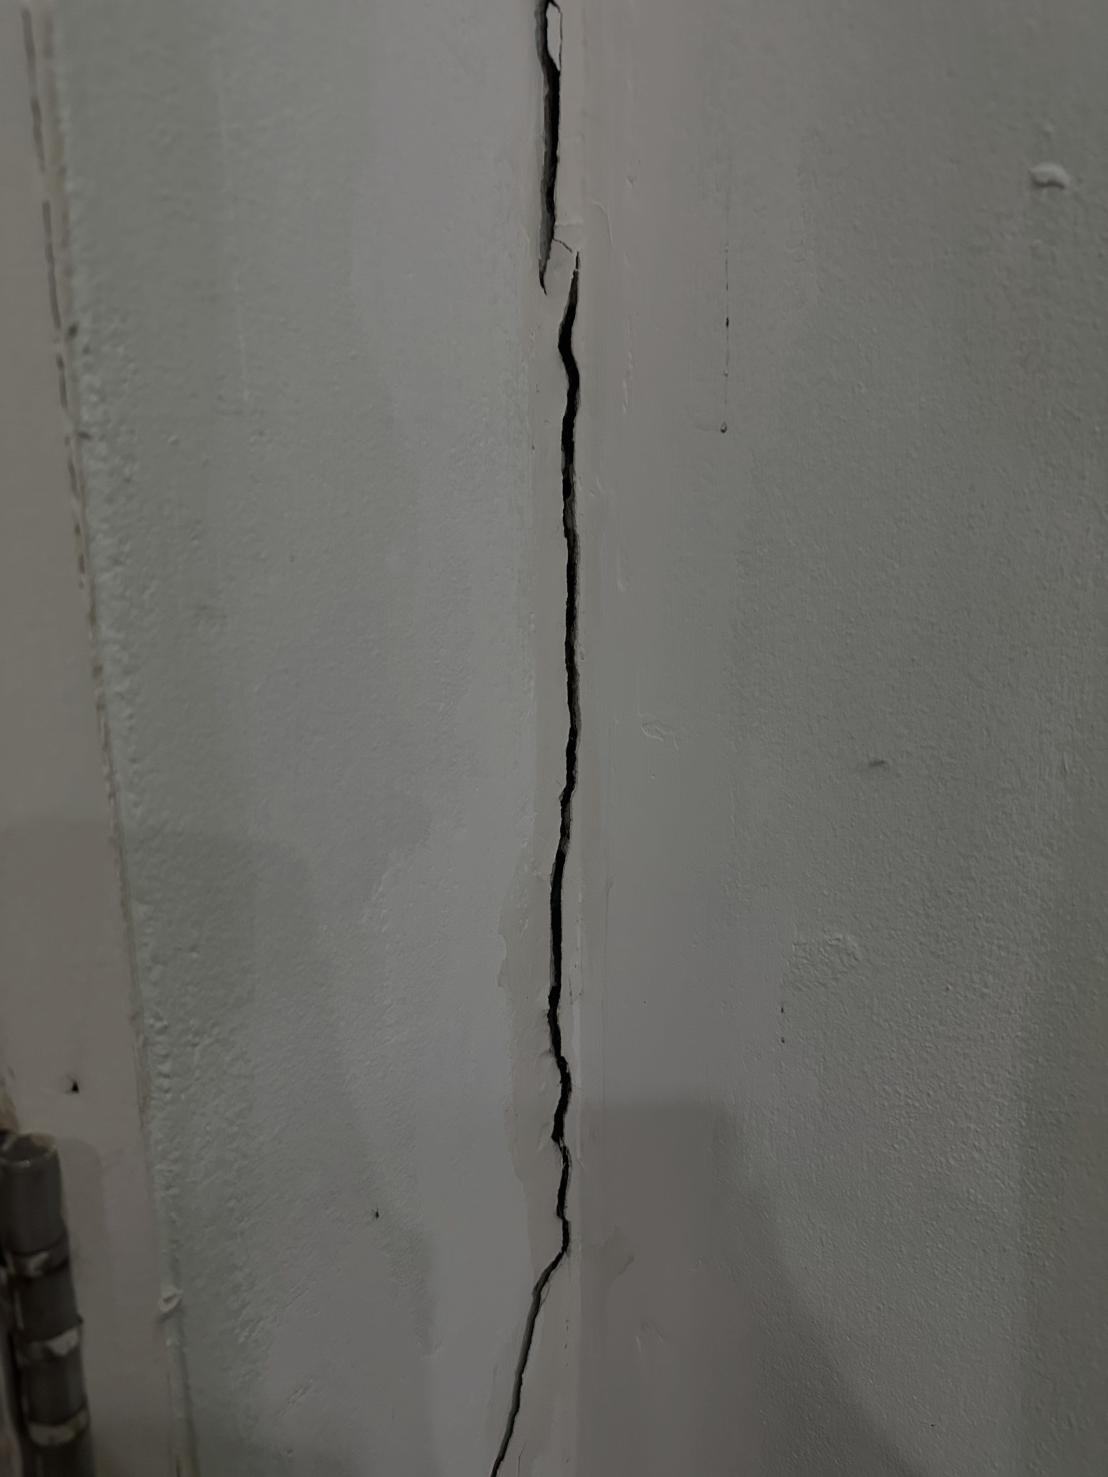High: (414, 3, 656, 1477)
